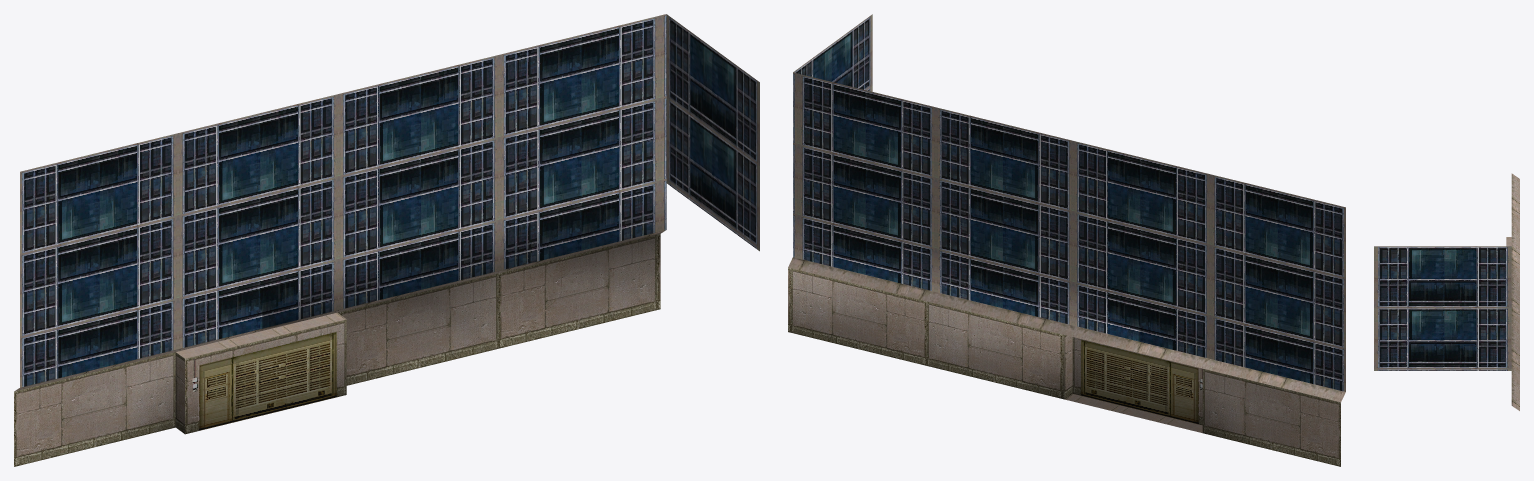
Rendered from M2Zone2_SpectrumBuilding_A.glb.
The picture shows the model from 3 angles, left to right: view 1: azimuth 30°, elevation 25°; view 2: azimuth 150°, elevation 25°; view 3: azimuth 270°, elevation 25°; orthographic projection. The views are drawn at different scales.
Parts seen in each view (by area): view 1: M2ZONE2_SPECTRUMBUILDING_A; view 2: M2ZONE2_SPECTRUMBUILDING_A; view 3: M2ZONE2_SPECTRUMBUILDING_A.
Part boxes in pixels (bbox=[...]): M2ZONE2_SPECTRUMBUILDING_A: bbox=[14, 14, 759, 466]; M2ZONE2_SPECTRUMBUILDING_A: bbox=[788, 14, 1345, 466]; M2ZONE2_SPECTRUMBUILDING_A: bbox=[1374, 173, 1519, 410].
Bounding box in the file's own units: 32 × 14.16 × 8.49.
Materials: 4 (4 with a texture image).
